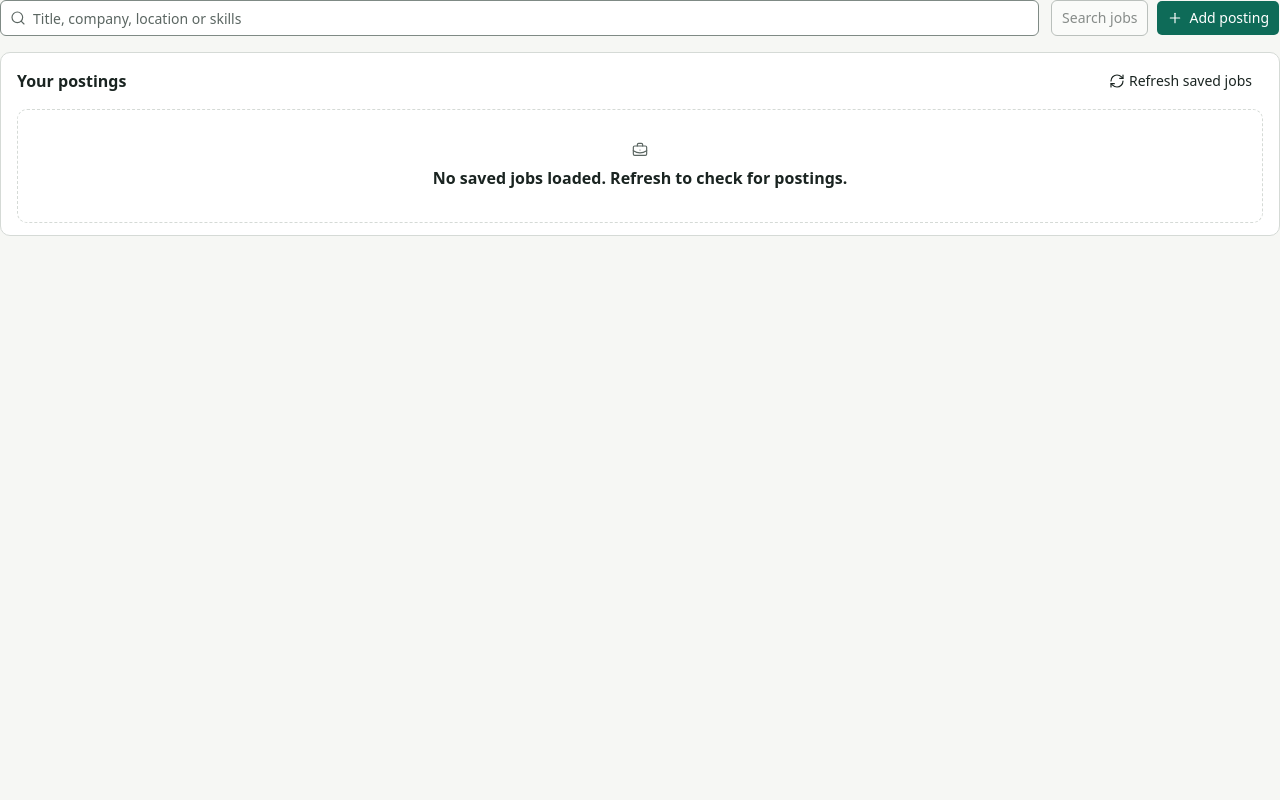
Test: job delete › hides the delete control when the deletion service is not composed
Click the button with test id "refreshJobsButton" at (1180,81), box x1=1098 y1=65 x2=1263 y2=97
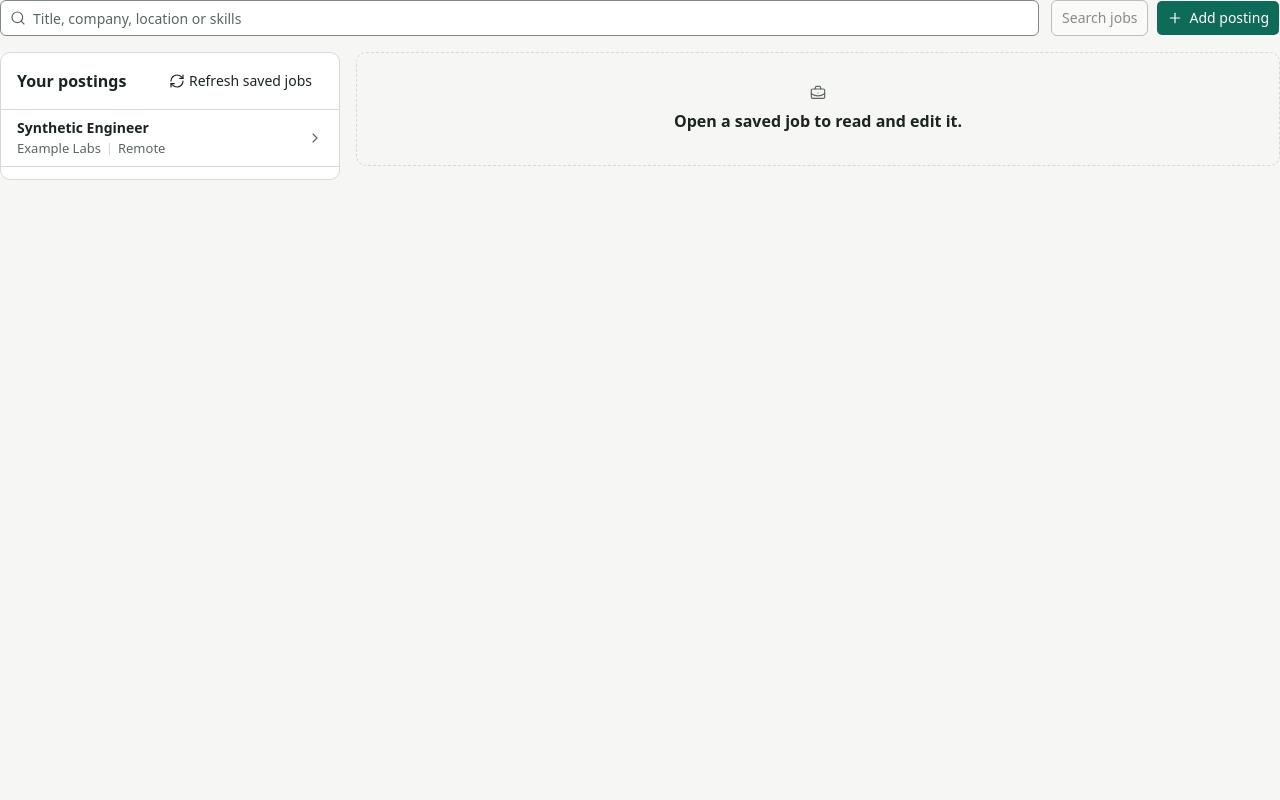
Click the button with aria-label "Open saved job Synthetic Engineer" at (83,128), box x1=1 y1=110 x2=339 y2=166
(page scrolled)
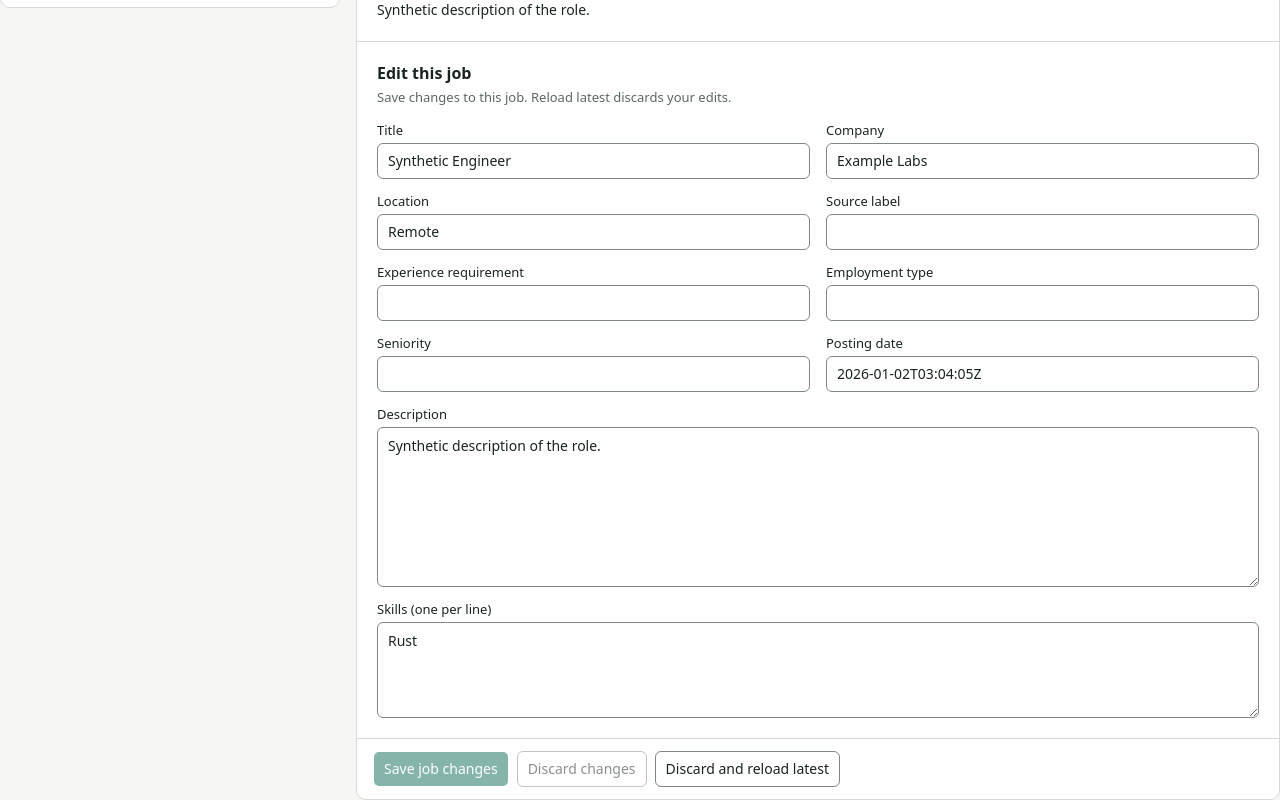
Check: the element with test id "jobEditorPanel" is shown
